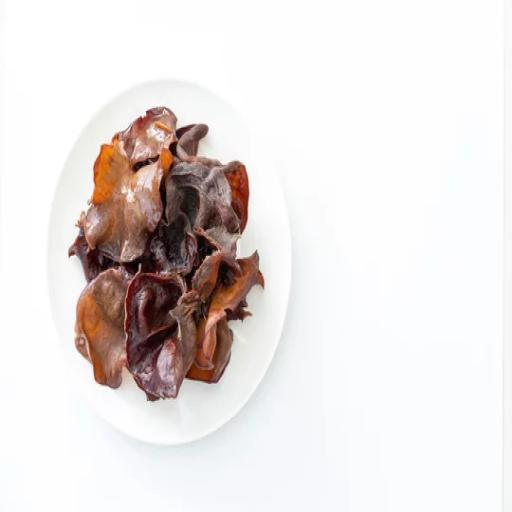mushroom: (70, 104, 268, 408)
